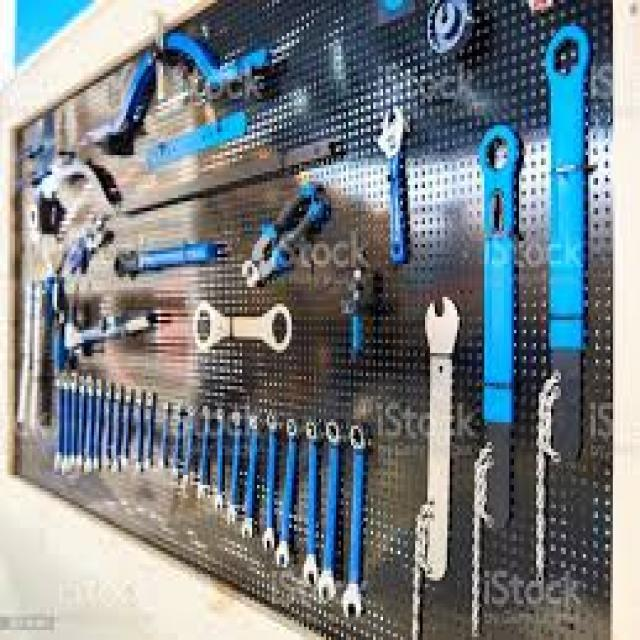wrench: (338, 416, 373, 626), (375, 102, 413, 270), (316, 412, 344, 608), (272, 414, 301, 574)
